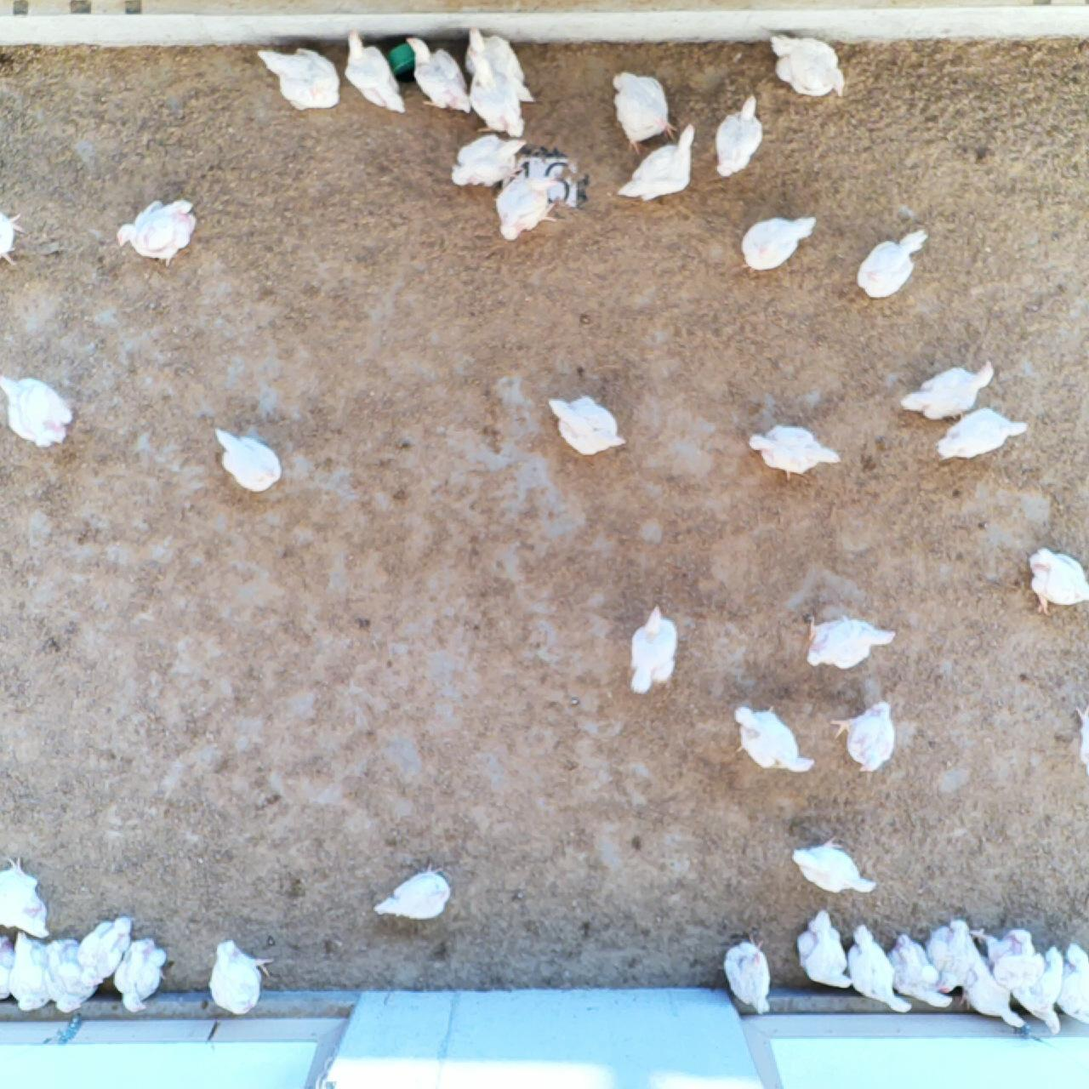chicken: (991, 945, 1063, 1041), (614, 122, 695, 203), (898, 358, 995, 422), (113, 197, 199, 269), (846, 921, 912, 1013), (732, 703, 816, 775), (461, 26, 537, 105), (610, 69, 679, 156), (465, 43, 527, 139), (33, 938, 104, 1018), (255, 45, 341, 111), (854, 226, 929, 301), (1, 371, 73, 449), (955, 954, 1027, 1032), (801, 612, 897, 670), (405, 34, 474, 114), (343, 28, 406, 115), (747, 424, 841, 482), (768, 32, 847, 100), (790, 835, 878, 896), (829, 700, 898, 775), (888, 932, 954, 1010), (934, 405, 1029, 459), (493, 168, 561, 243), (546, 396, 628, 458), (212, 423, 284, 493), (208, 938, 271, 1018), (372, 860, 452, 921), (795, 908, 854, 989), (629, 602, 679, 696), (712, 93, 765, 180), (739, 214, 818, 272), (111, 936, 168, 1016), (75, 913, 135, 988), (449, 133, 529, 188), (1, 856, 52, 941), (1028, 546, 1089, 617), (721, 932, 772, 1016), (6, 929, 56, 1012), (925, 917, 979, 993), (967, 924, 1043, 967), (1054, 941, 1089, 1026), (1, 209, 26, 269), (1071, 703, 1089, 780), (1, 935, 14, 1003)
